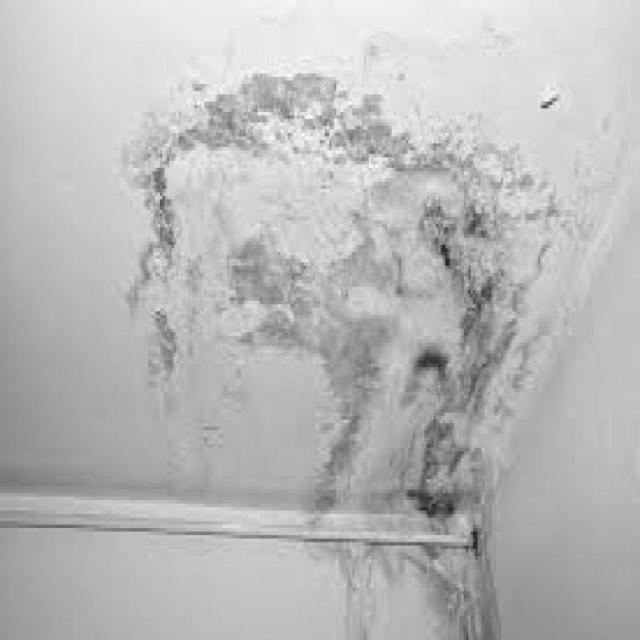stain marks: (120, 48, 588, 640)
